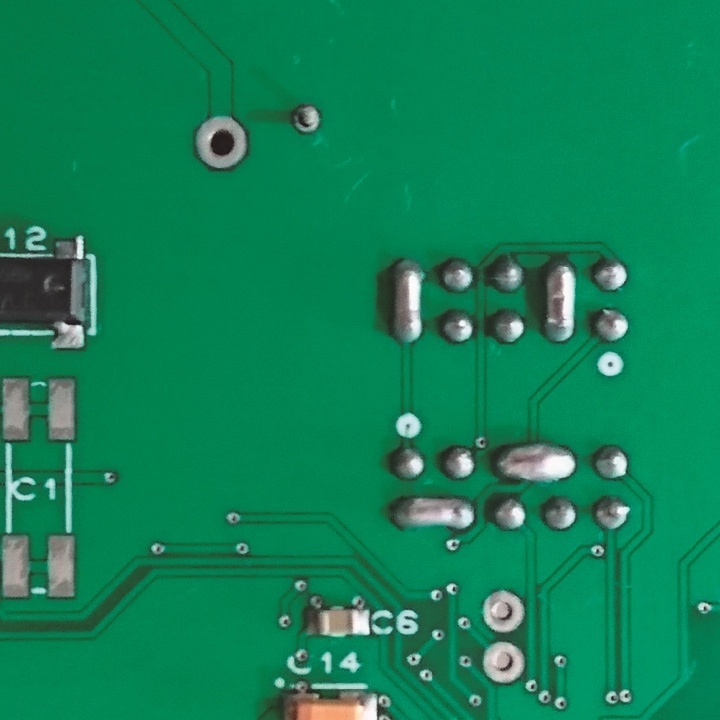F: (194, 114, 249, 172), (479, 638, 527, 685), (478, 589, 527, 633), (288, 100, 326, 140)
P: (490, 440, 580, 483), (540, 252, 577, 347), (388, 255, 424, 348), (390, 495, 478, 530)
